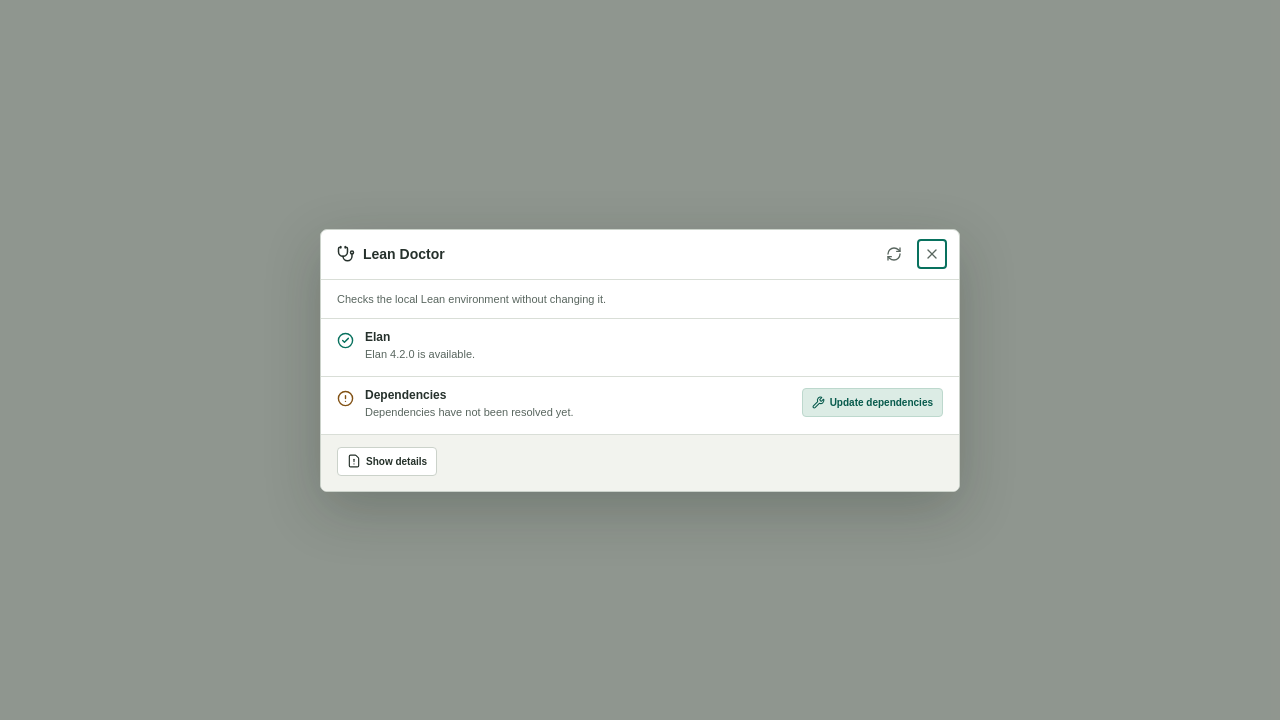
DoctorPanel › loads detailed logs only after explicit disclosure
The width and height of the screenshot is (1280, 720).
Expected: the text "Elan 4.2.0 is available." is shown, [365,348,475,360]
Click the button "Show details" at x=387, y=461, box [337,446,437,476]
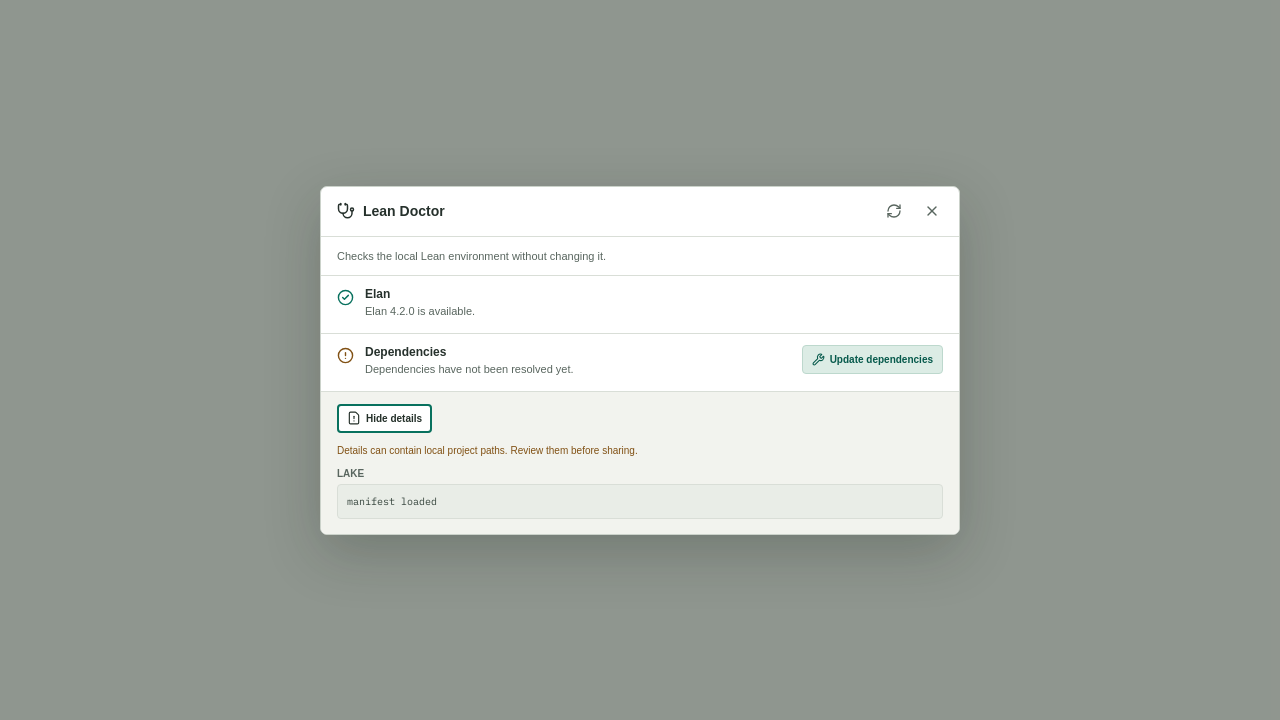
Expected: the text "manifest loaded" is shown, [337,484,943,518]
